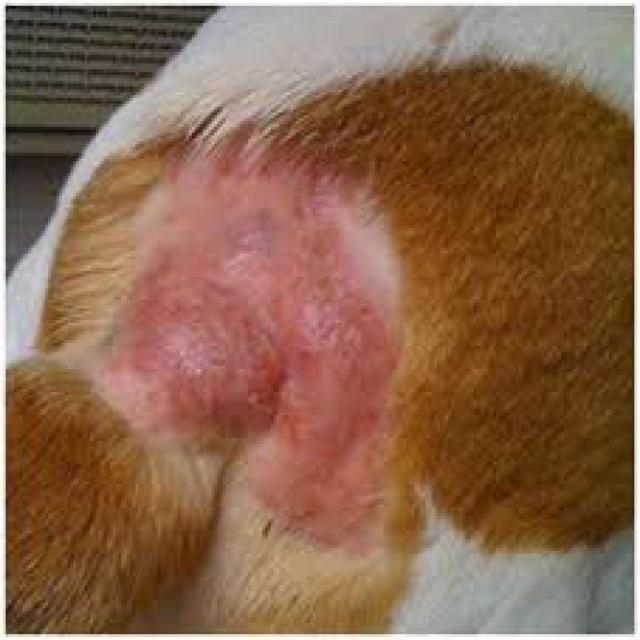hac lao: (71, 159, 452, 451)
